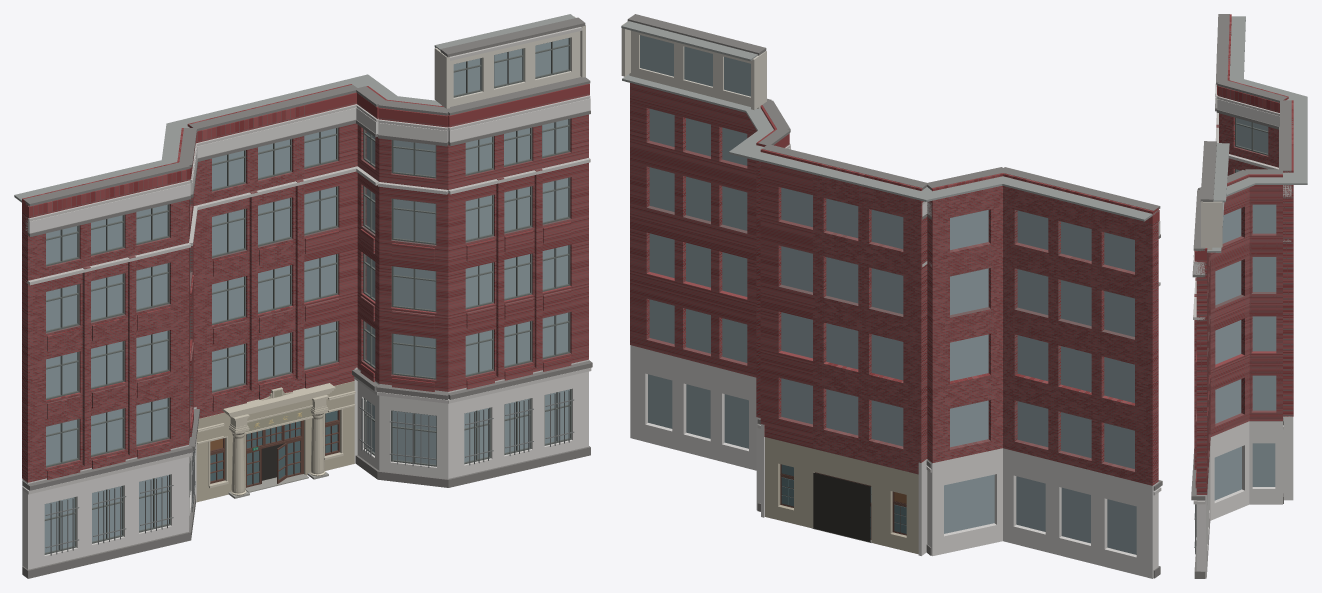
Rendered from huangpu-huqiu-apartments-east-front-lod.glb.
The picture shows the model from 3 angles, left to right: view 1: azimuth 30°, elevation 25°; view 2: azimuth 150°, elevation 25°; view 3: azimuth 270°, elevation 25°; orthographic projection. The views are drawn at different scales.
Parts seen in each view (by area): view 1: 虎丘公寓虎丘路东立面; view 2: 虎丘公寓虎丘路东立面; view 3: 虎丘公寓虎丘路东立面.
Boxes of the visible parts, bbox=[...] form: 虎丘公寓虎丘路东立面: bbox=[14, 14, 592, 578]; 虎丘公寓虎丘路东立面: bbox=[621, 14, 1162, 578]; 虎丘公寓虎丘路东立面: bbox=[1191, 14, 1307, 578].
Bounding box in the file's own units: 28.39 × 21.27 × 5.94.
Materials: 20 (1 with a texture image).
